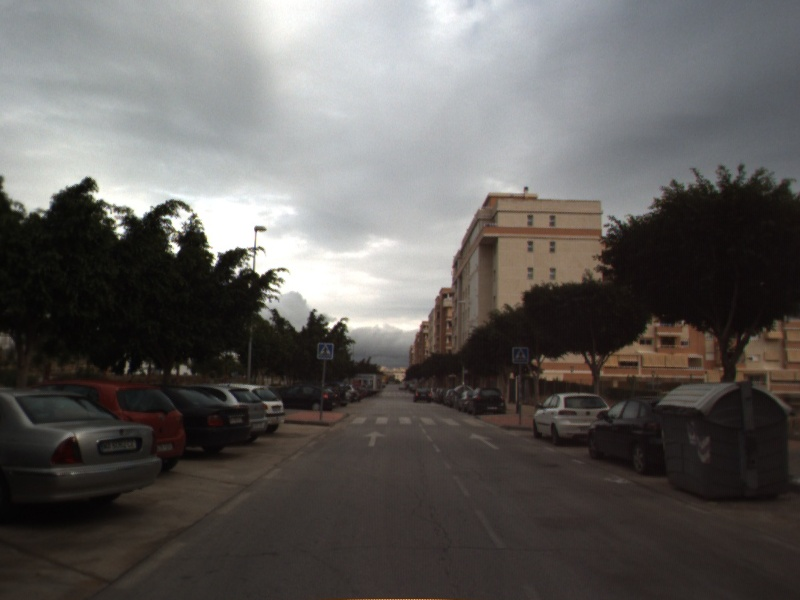STRAIGHT: (467, 431, 501, 451), (361, 428, 388, 448)
